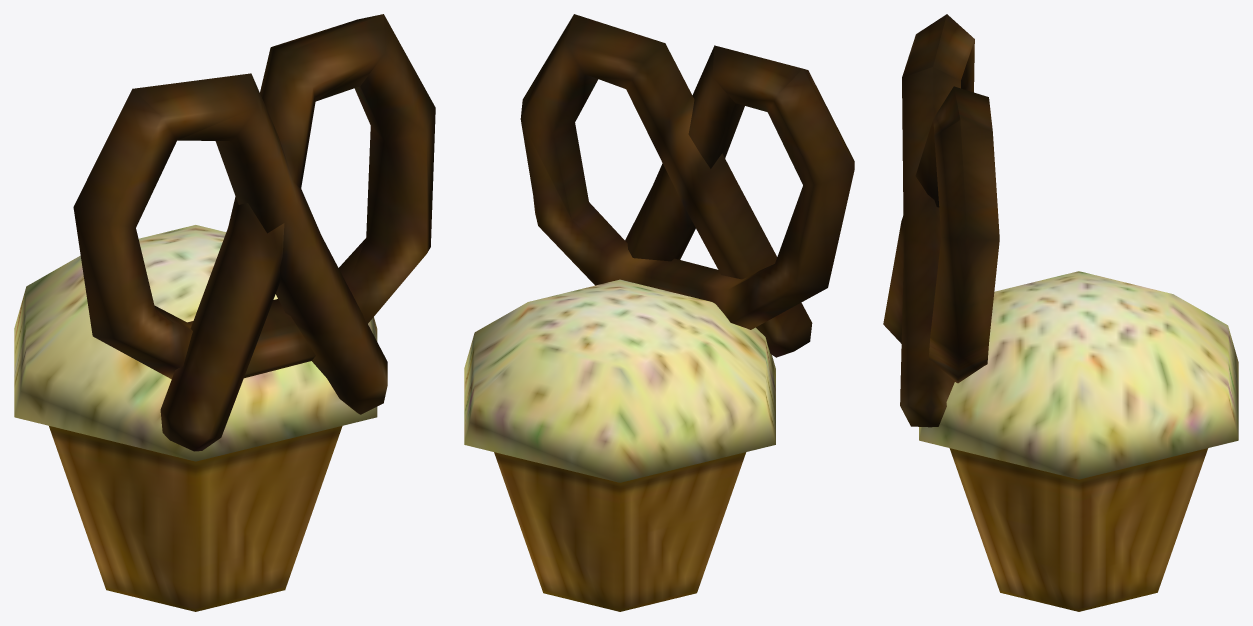
Rendered from cupcakeChair.glb.
3 views of the same model, side by side, from view 1: azimuth 30°, elevation 25°; view 2: azimuth 150°, elevation 25°; view 3: azimuth 270°, elevation 25° (orthographic). The views are drawn at different scales.
Visible parts, largest first — view 1: pretzel, cupcakeBottom, cupcakeTop; view 2: pretzel, cupcakeTop, cupcakeBottom; view 3: cupcakeTop, pretzel, cupcakeBottom.
Boxes of the visible parts, x1=… form: pretzel: x1=73, y1=14, x2=435, y2=451; cupcakeBottom: x1=49, y1=426, x2=342, y2=611; cupcakeTop: x1=14, y1=225, x2=377, y2=461; pretzel: x1=520, y1=14, x2=854, y2=357; cupcakeTop: x1=464, y1=279, x2=775, y2=482; cupcakeBottom: x1=494, y1=452, x2=746, y2=611; cupcakeTop: x1=919, y1=271, x2=1238, y2=479; pretzel: x1=883, y1=14, x2=999, y2=427; cupcakeBottom: x1=949, y1=448, x2=1208, y2=611.
Bounding box in the file's own units: 2.46 × 3.55 × 2.26.
Materials: 2 (2 with a texture image).
